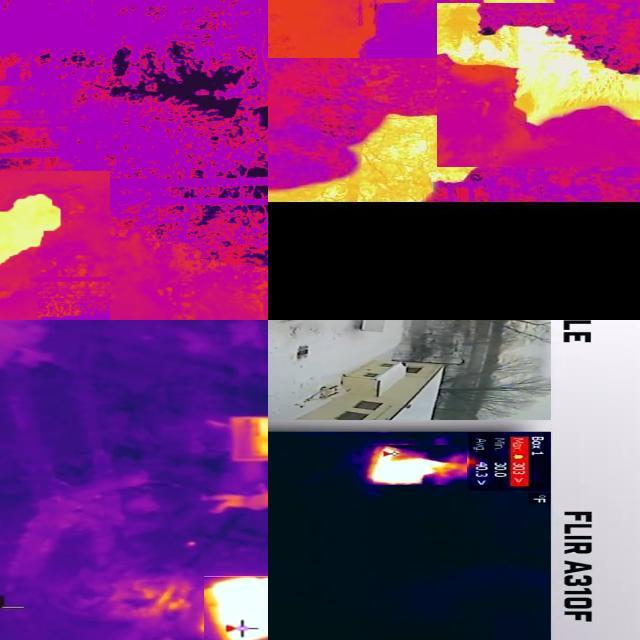fire: (438, 3, 640, 122), (269, 1, 594, 58), (269, 114, 439, 202), (1, 189, 66, 272), (204, 576, 269, 640), (364, 445, 468, 485)
